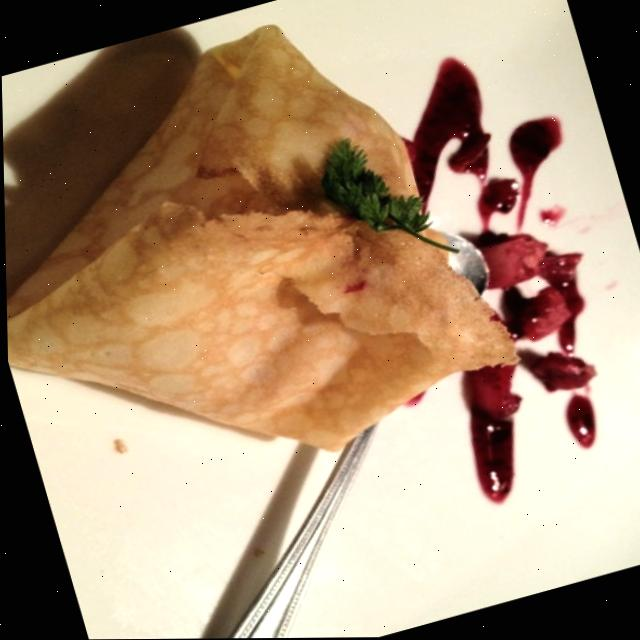蛋糕甜品: (0, 0, 532, 556)
